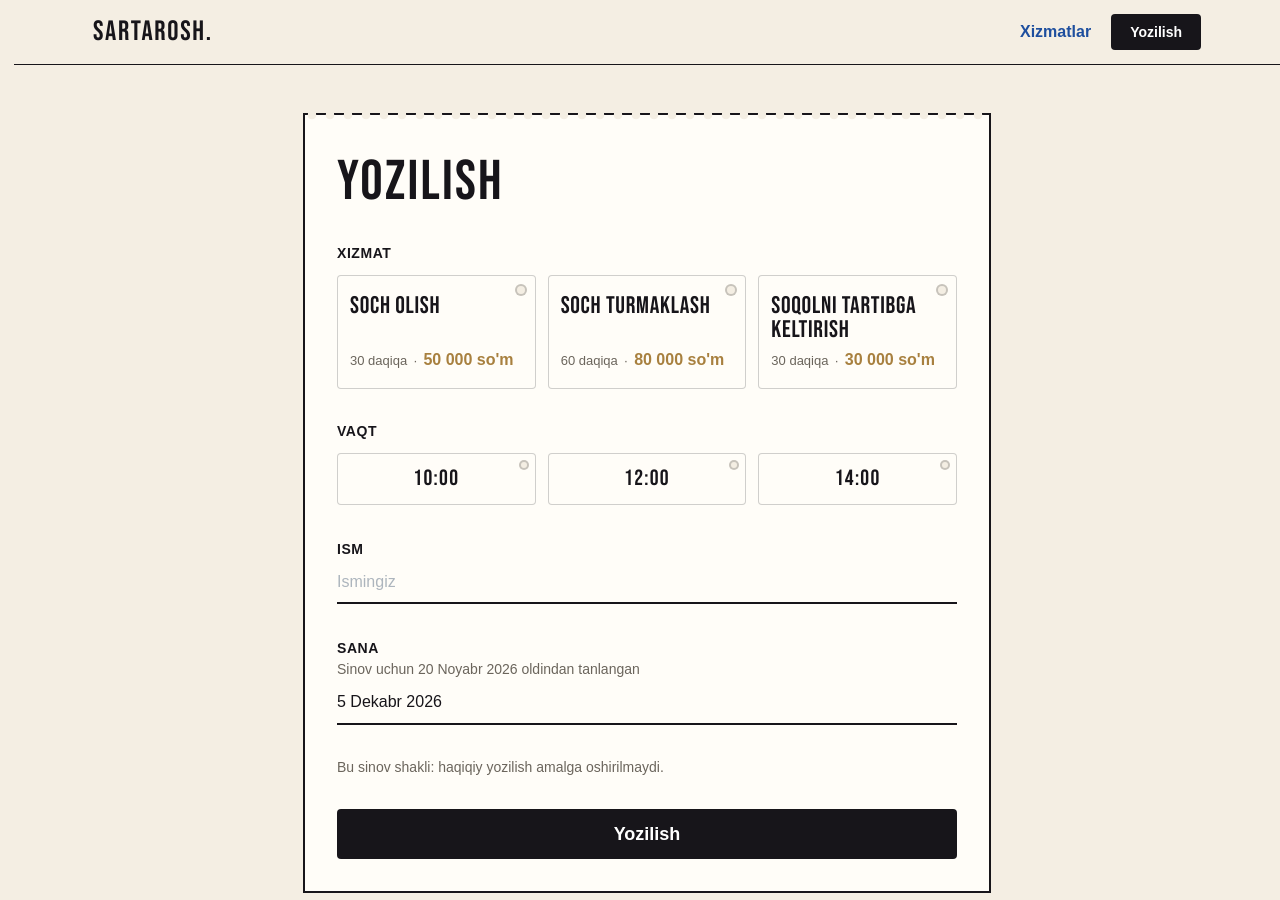
Test: another chosen date is shown in Uzbek and lands in the confirmation
Expected: the button with test id "date-input" reads "5 Dekabr 2026", [337,683,957,725]
Step 1. Click the radio button with test id "service-S01" → (436, 332), box [337,275,536,390]
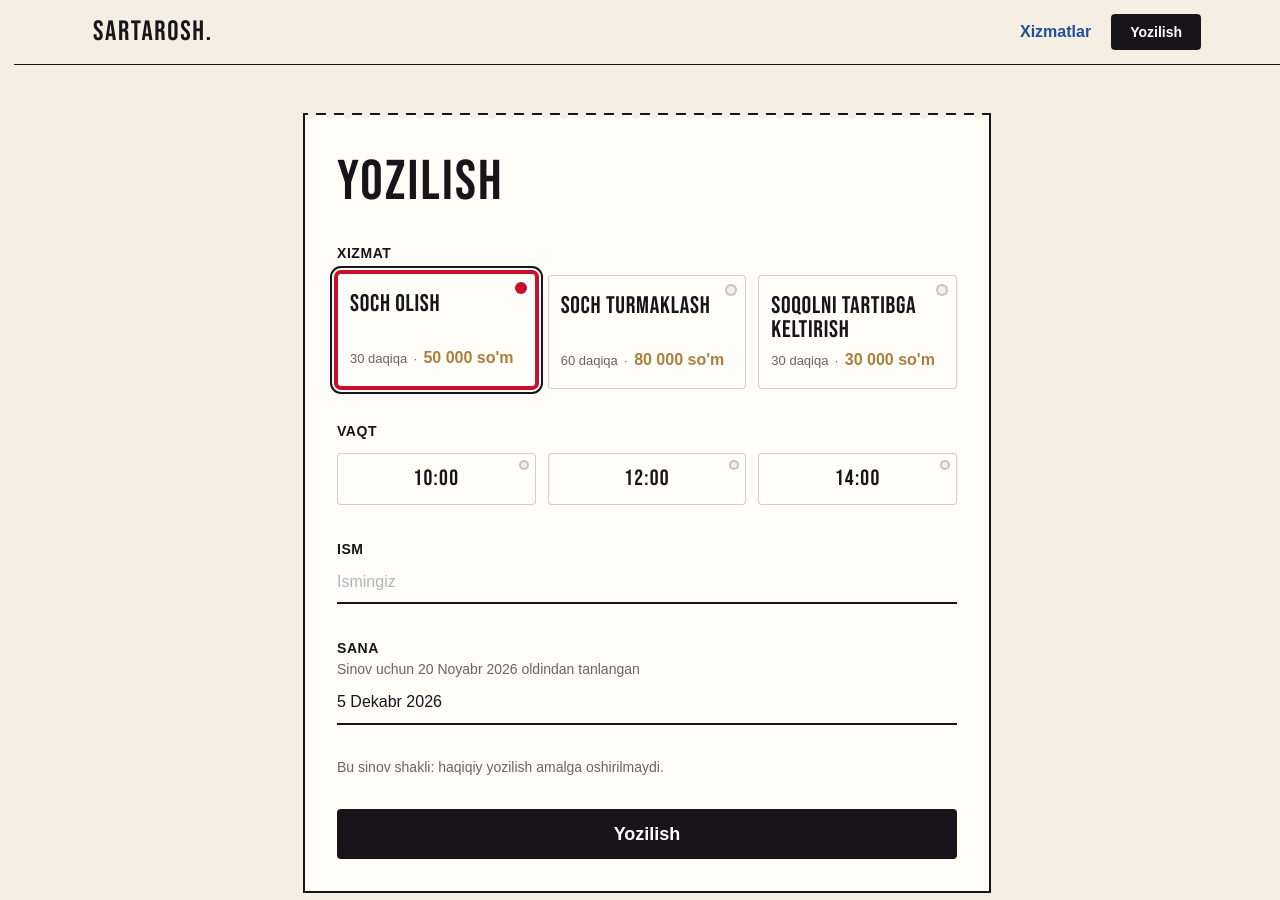
Step 2. Click the radio button with test id "time-12:00" → (647, 479), box [548,453,746,505]
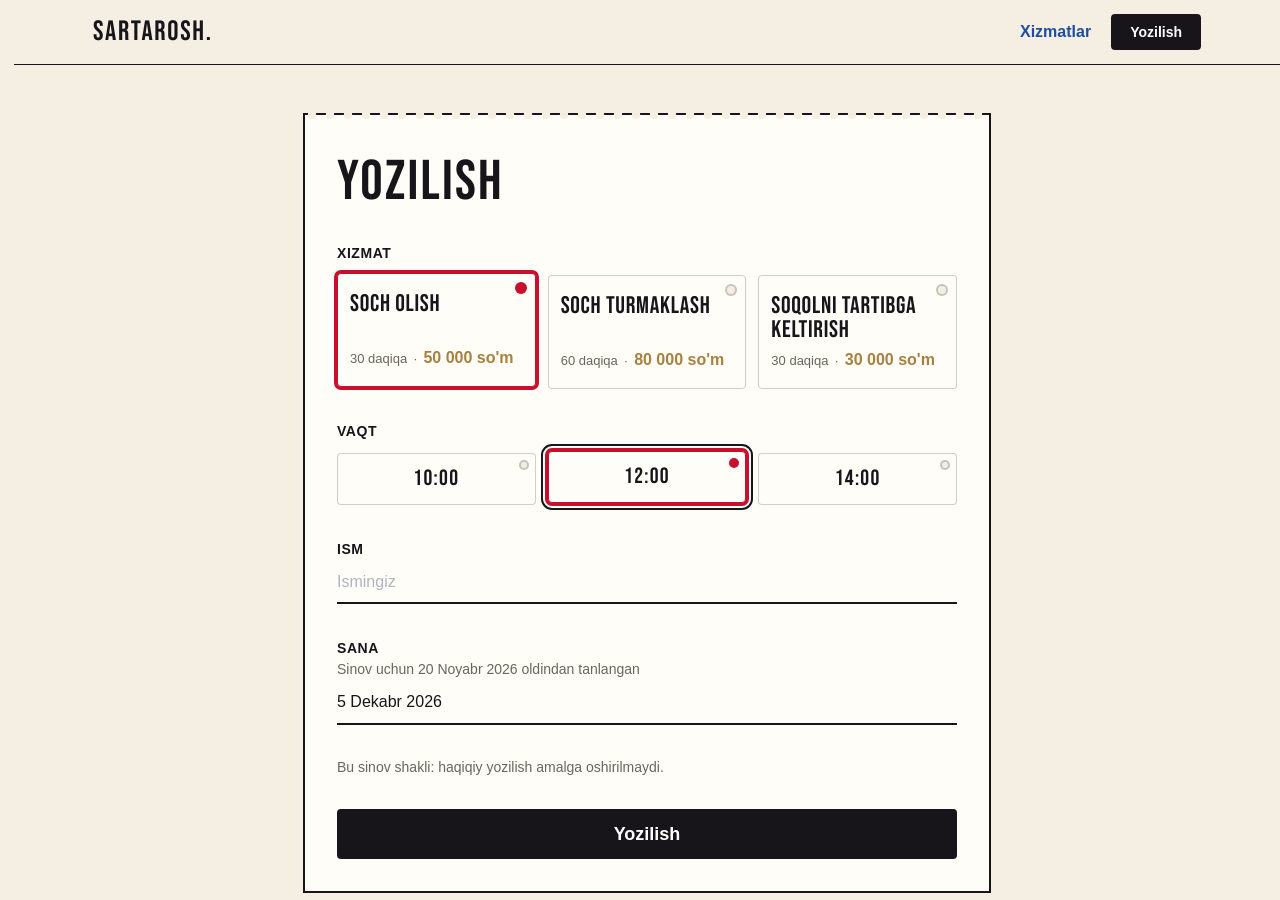
Step 3. Type "Sinovchi 01" into the field with test id "name-input" → (647, 583), box [337,562,957,604]
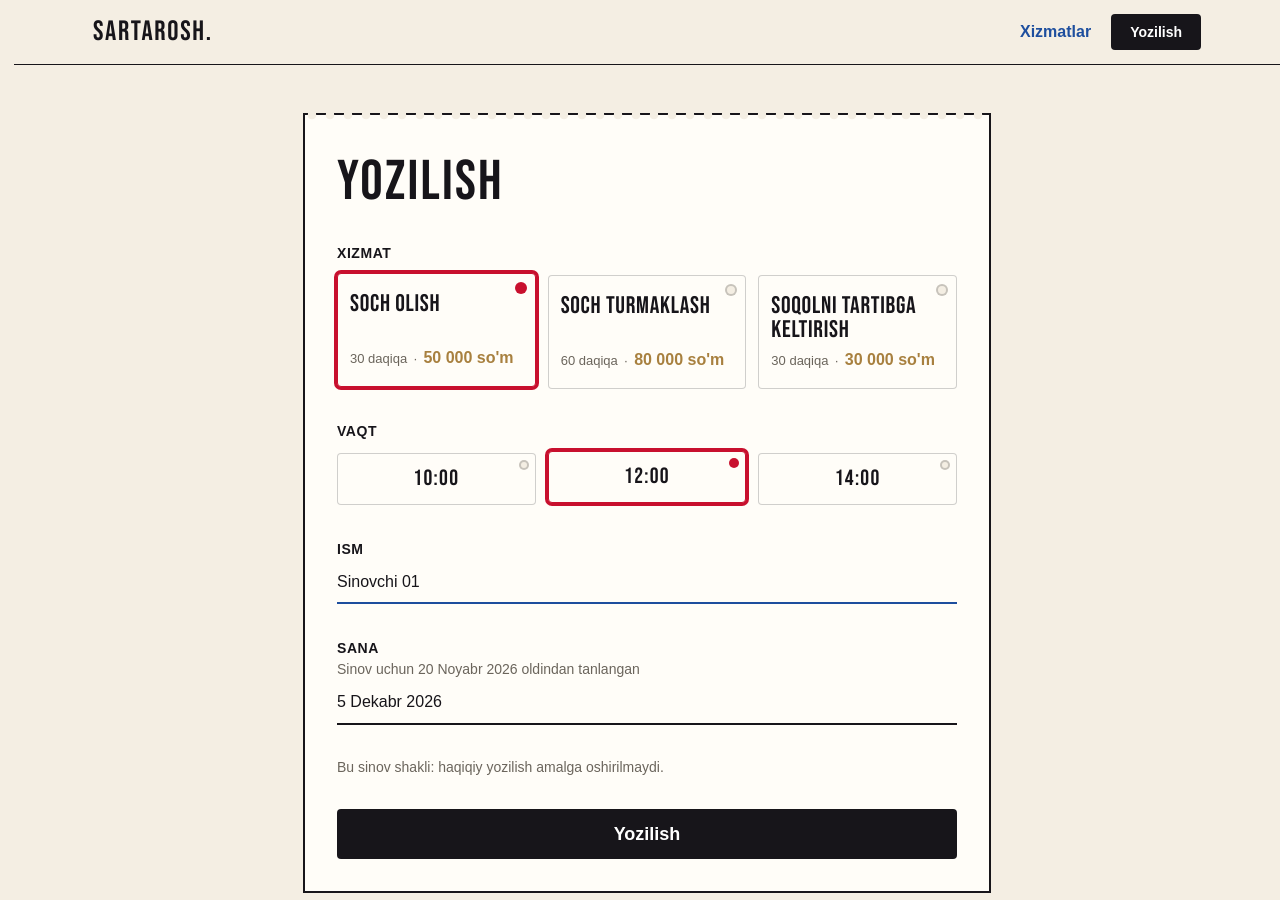
Step 4. Click the button with test id "submit-booking" → (647, 834), box [337,809,957,859]
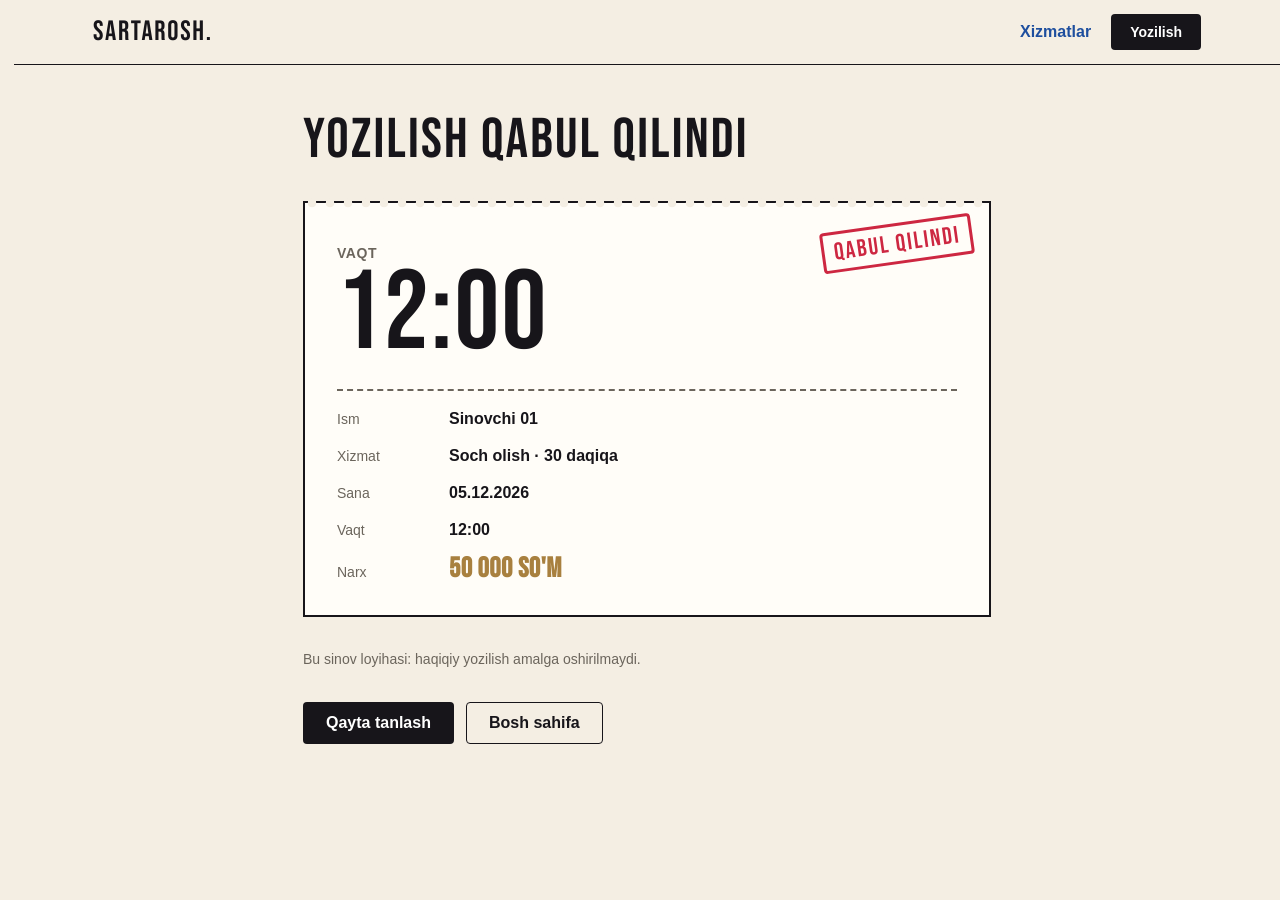
Expected: the element with test id "confirm-card" does not show "20.11.2026", [303,201,991,617]
Expected: the element with test id "confirm-card" shows "05.12.2026", [449,484,529,501]
